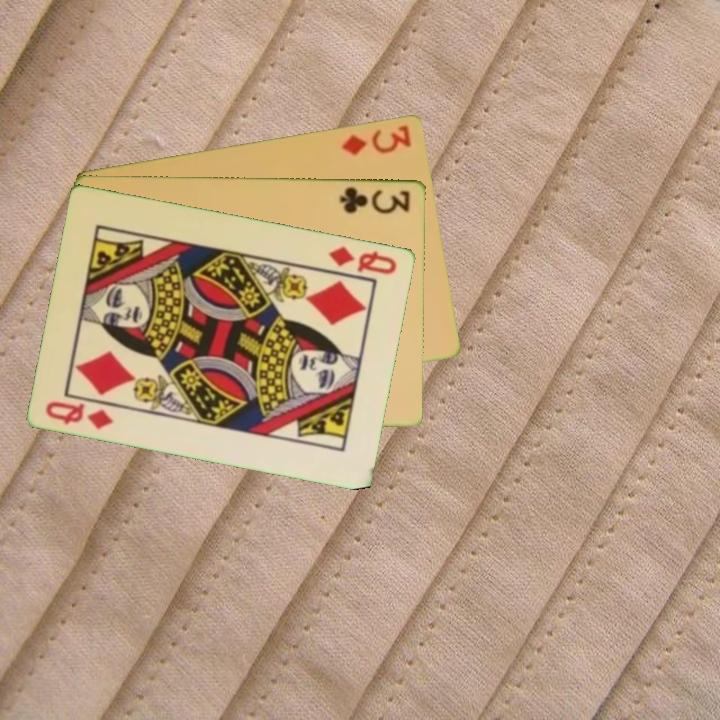3c: (336, 183, 413, 216)
3d: (338, 121, 415, 158)
Qd: (325, 242, 400, 277), (42, 397, 117, 432)
